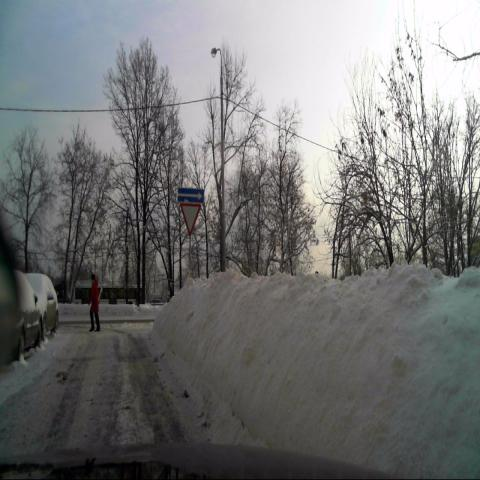5_7_1: (177, 186, 204, 204)
